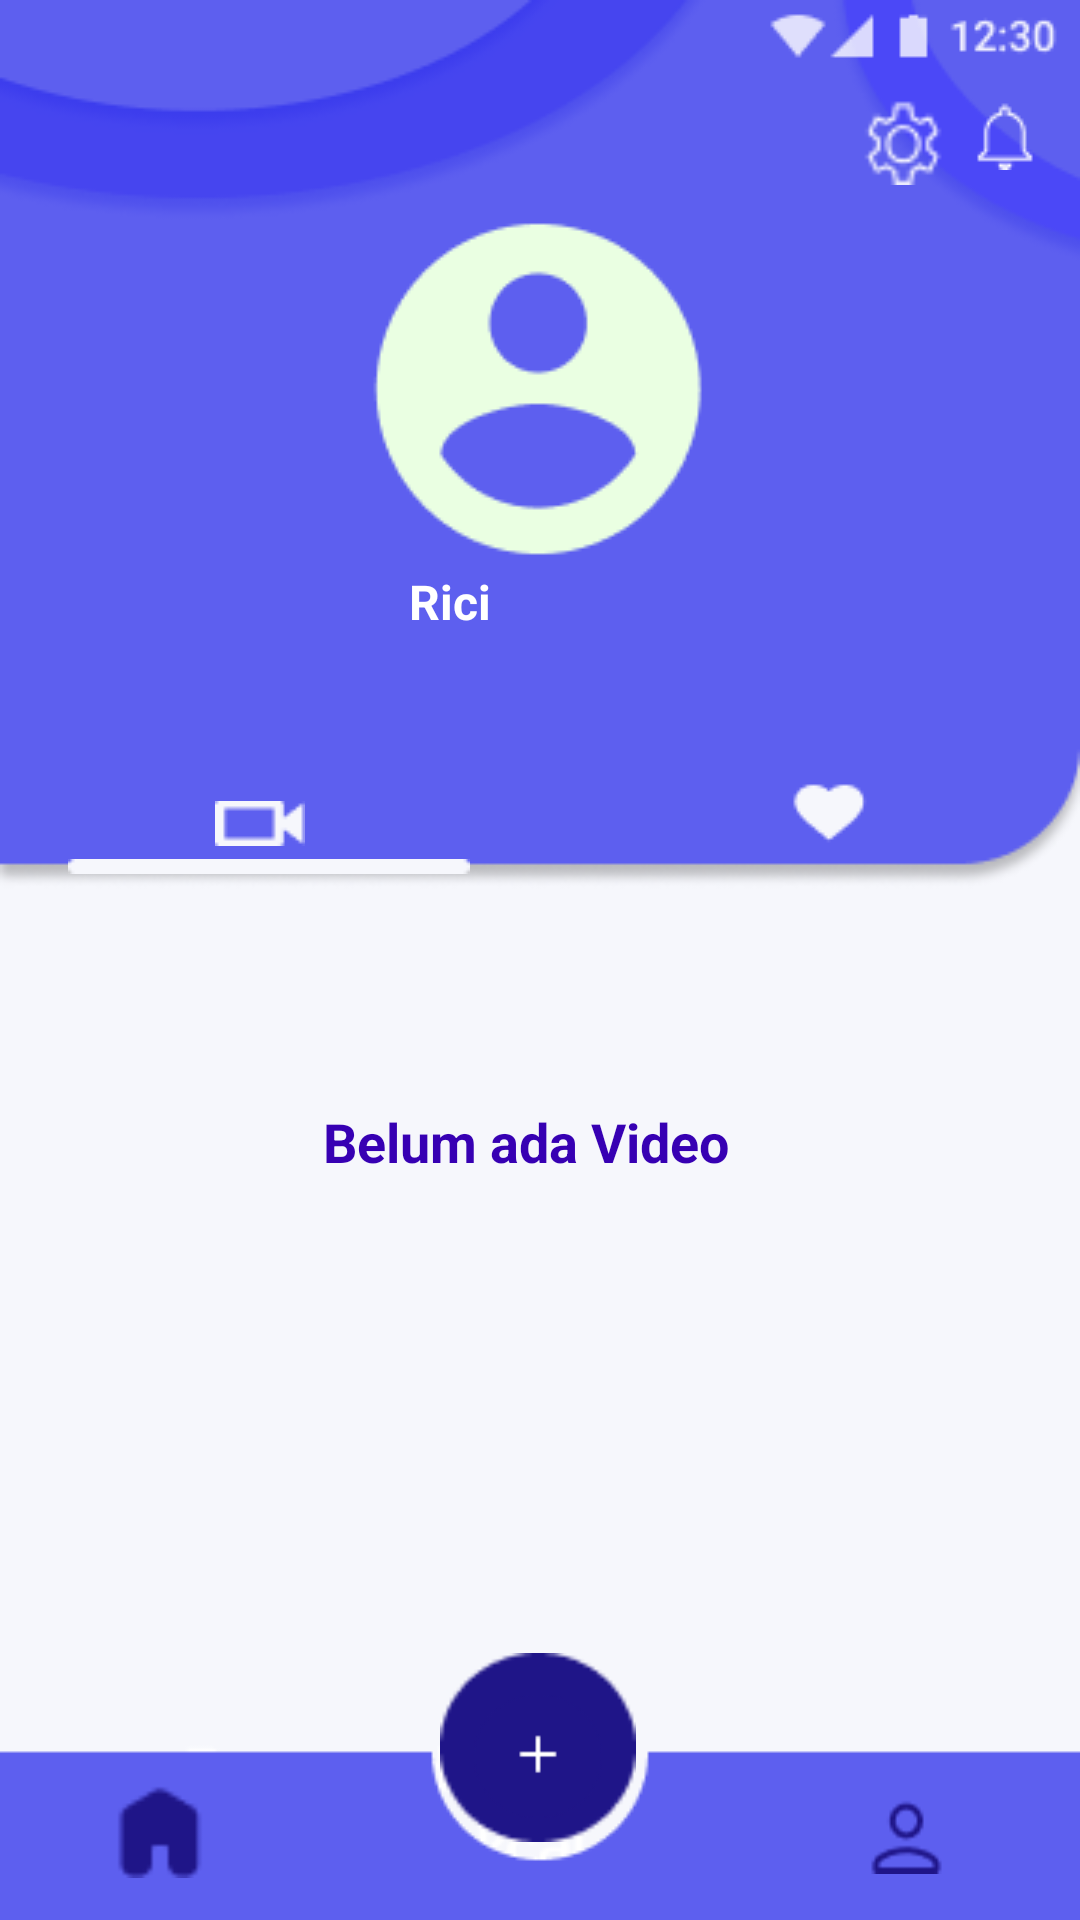

Point at icon controls on the screen. Image size 1080 × 1920, points as [x,y].
heart like favorite: [828,812]
notifications: [1005,136]
plus: [538,1754]
settings: [906,140]
